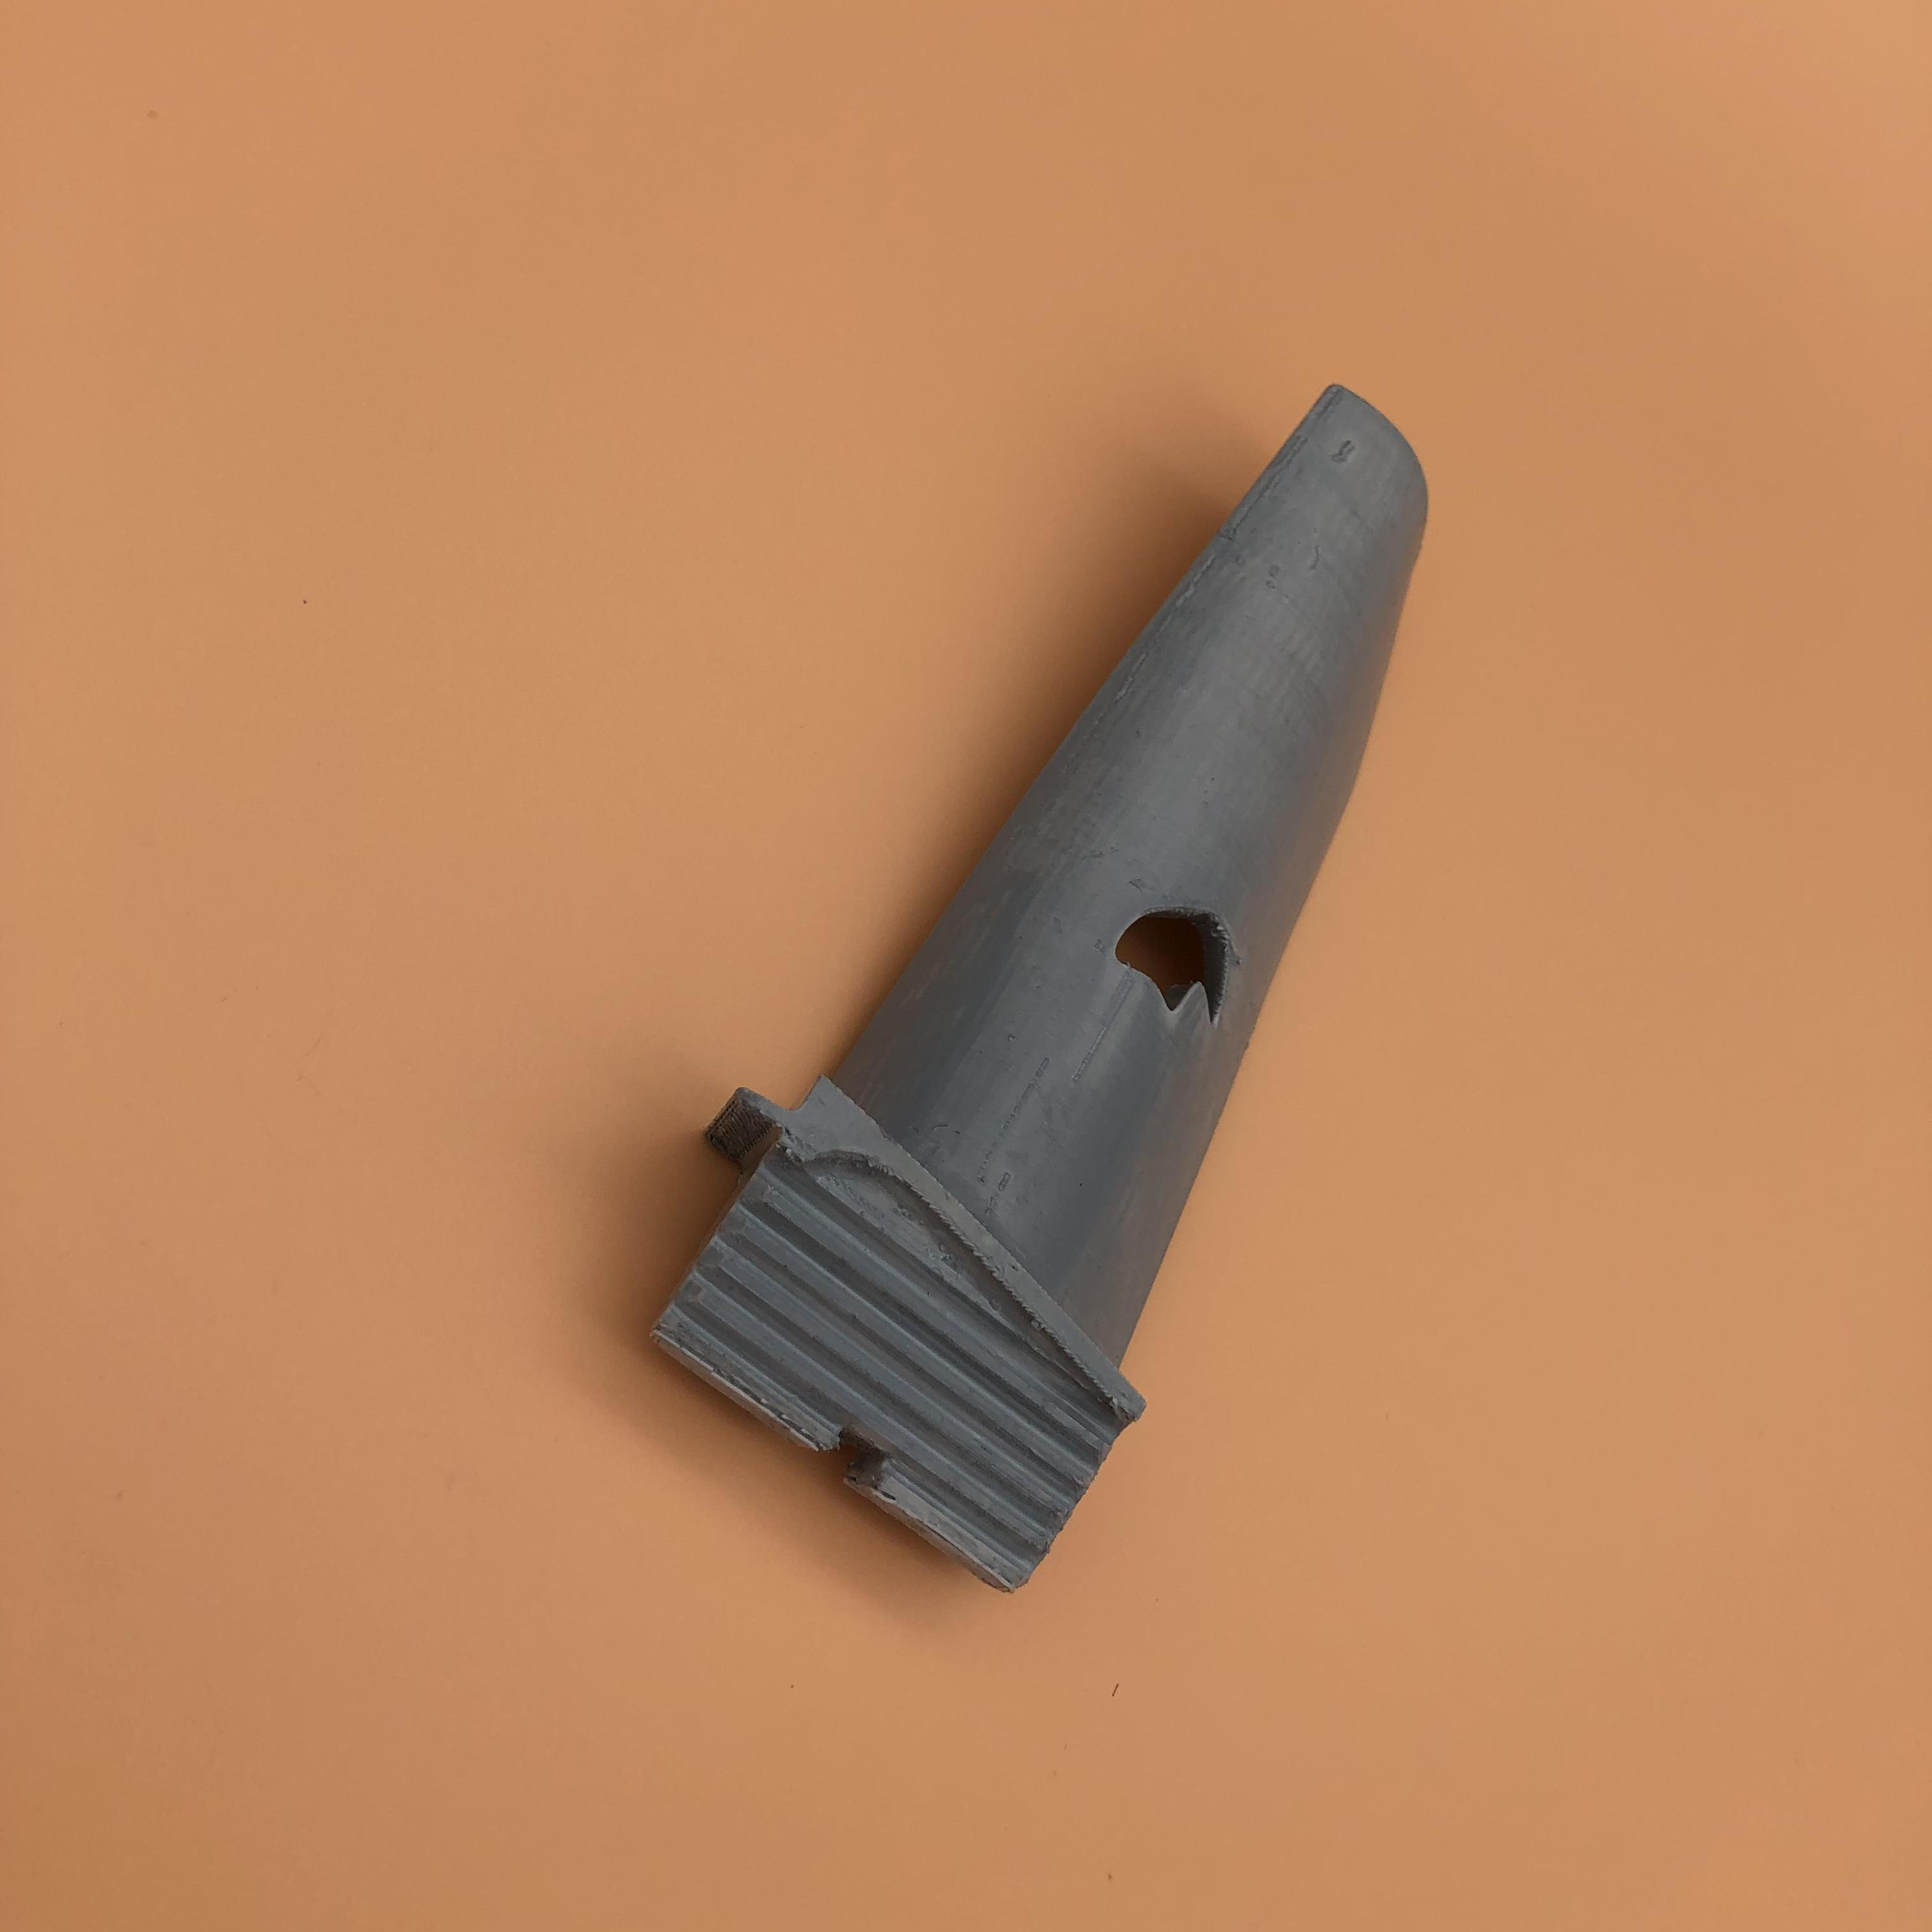breakdown: (1111, 904, 1226, 1030)
